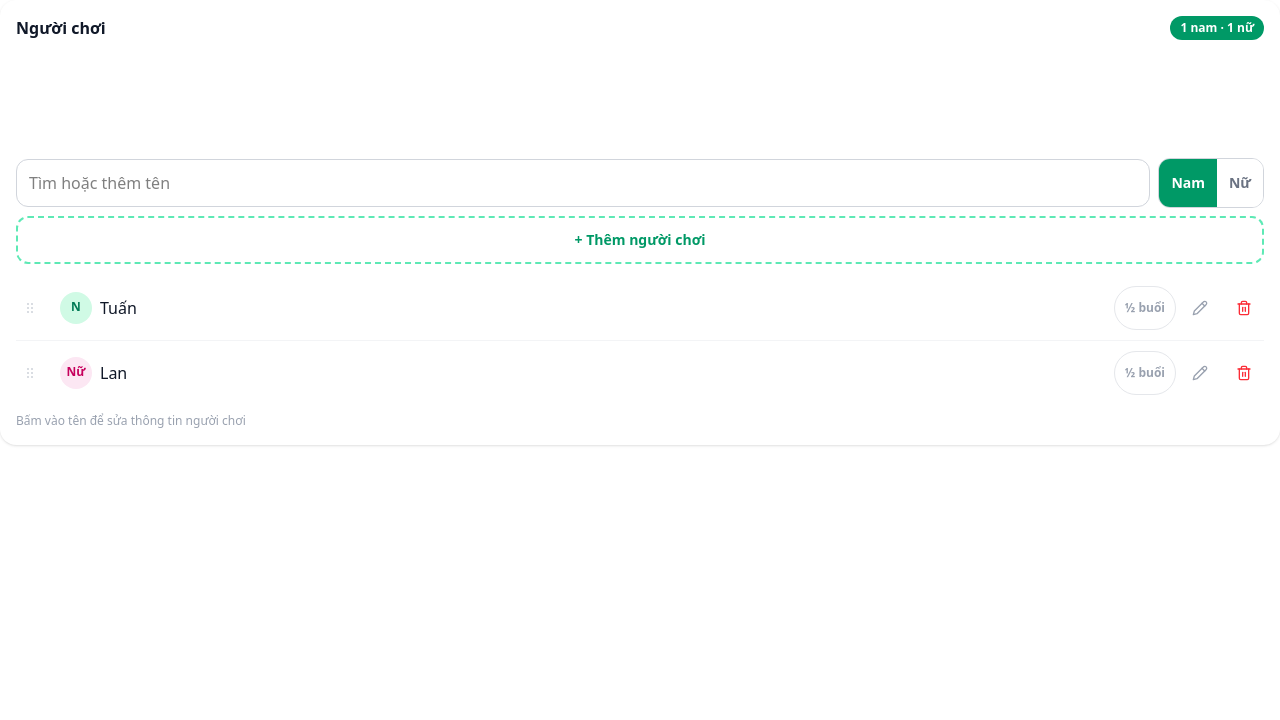
rename via edit drawer commits on blur; duplicate name is blocked
This screenshot has width=1280, height=720.
// open the edit drawer by tapping the name
Click the button "Tuấn" at (118, 308), box [100,286,137,330]
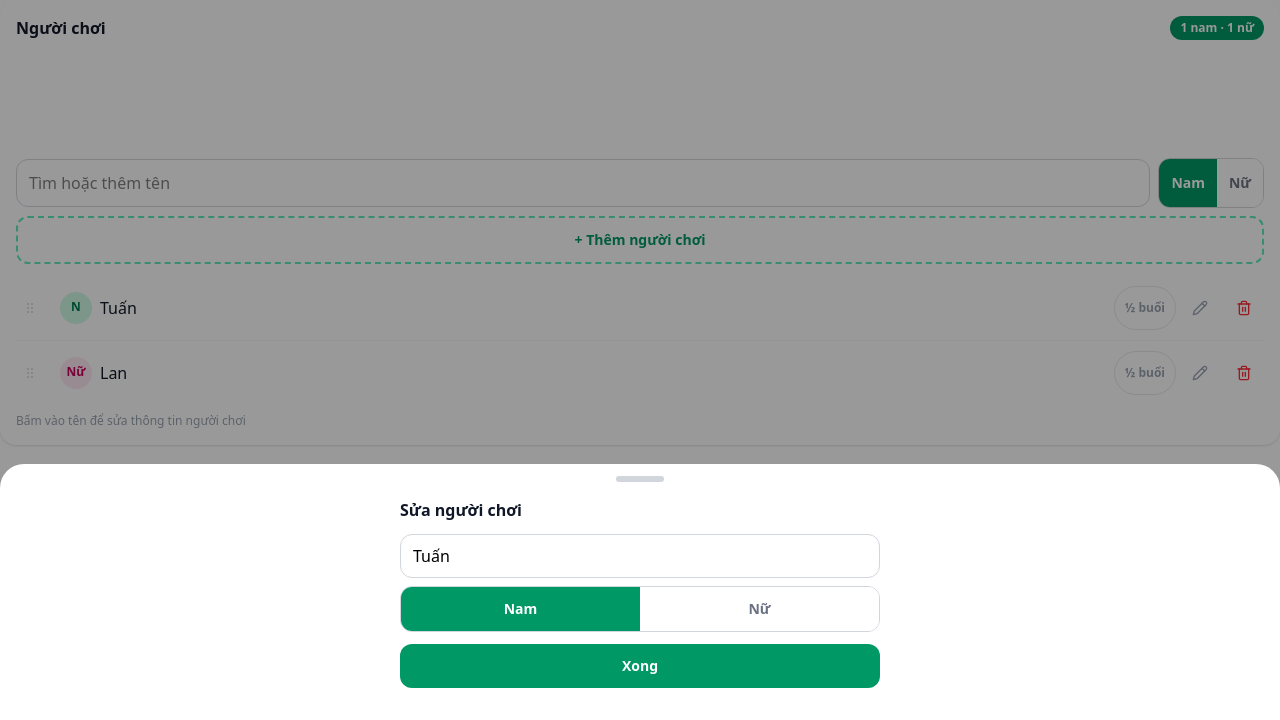
// committing a valid new name on blur renames the player
Replace the text in the field named "Tên của Tuấn" with "Nam Anh" at (640, 556), box [400,534,880,578]
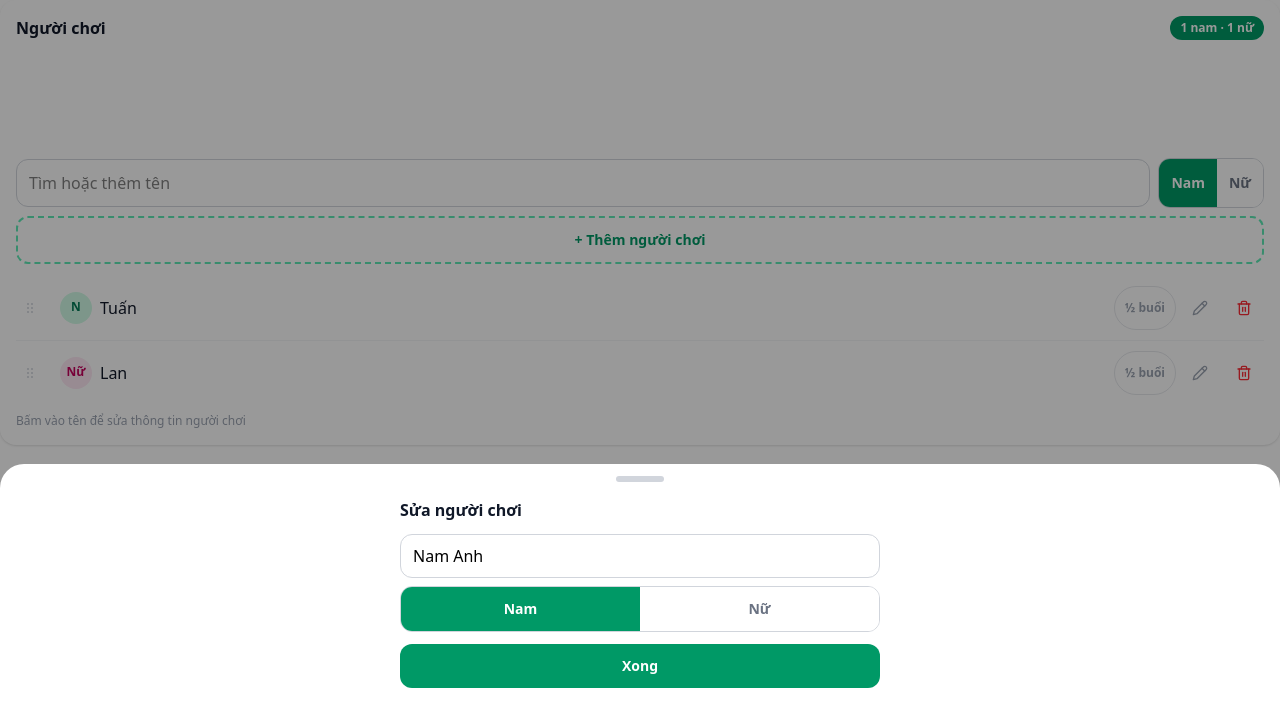
Leave the field named "Tên của Tuấn", box [400,534,880,578]
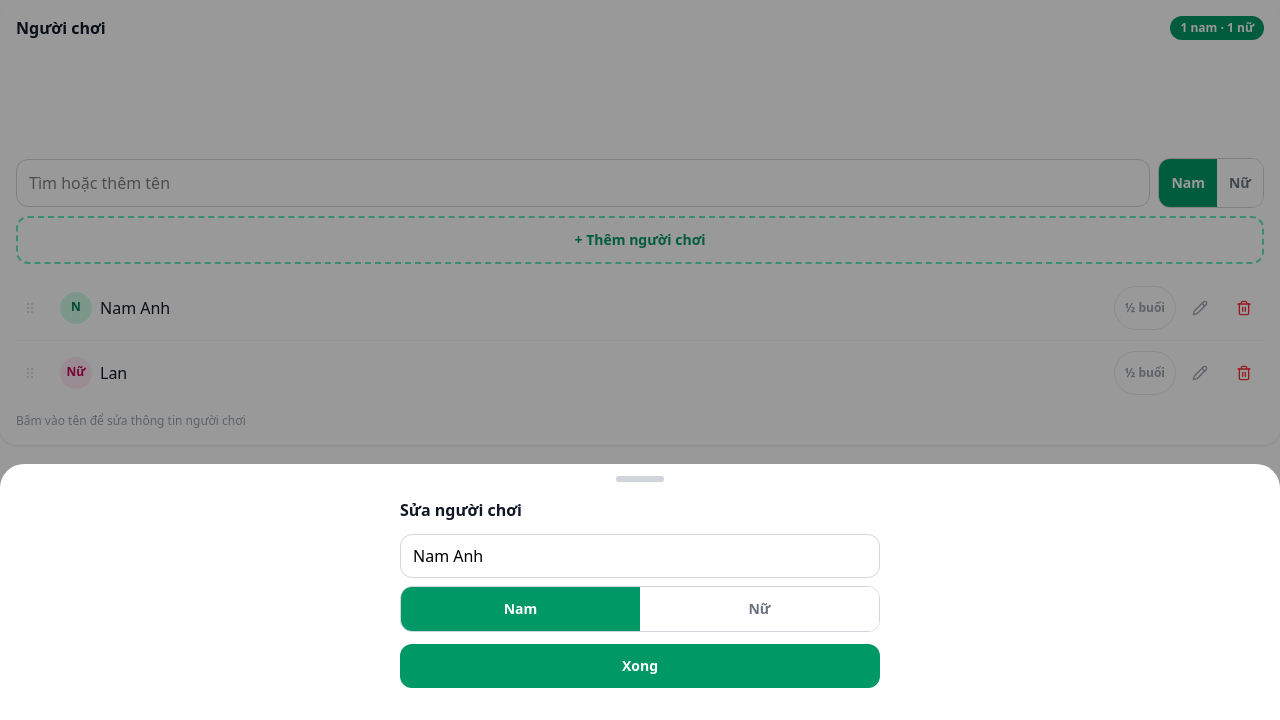
Expected: the text "Nam Anh" is shown, [100,296,170,320]
Expected: the button "Tuấn" is gone
// attempting to rename to an existing name is blocked with an inline error
Replace the text in the field named "Tên của Tuấn" with "lan" at (640, 556), box [400,534,880,578]
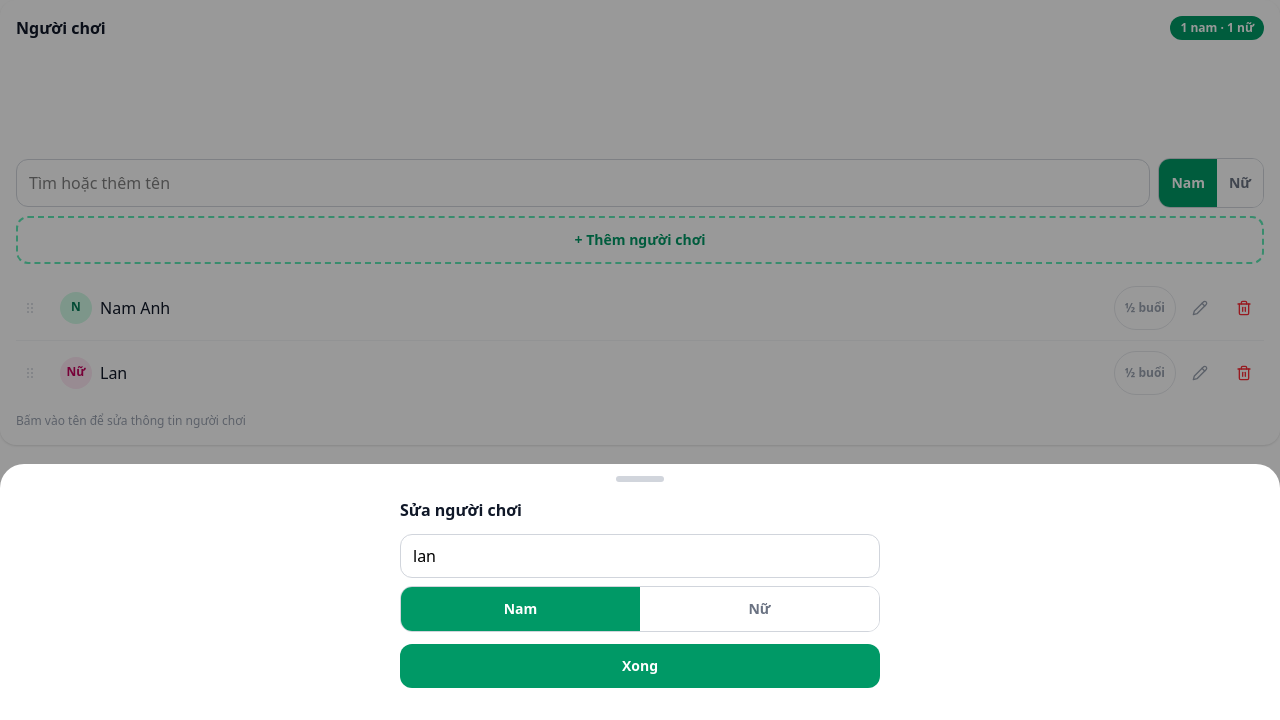
Leave the field named "Tên của Tuấn", box [400,534,880,578]
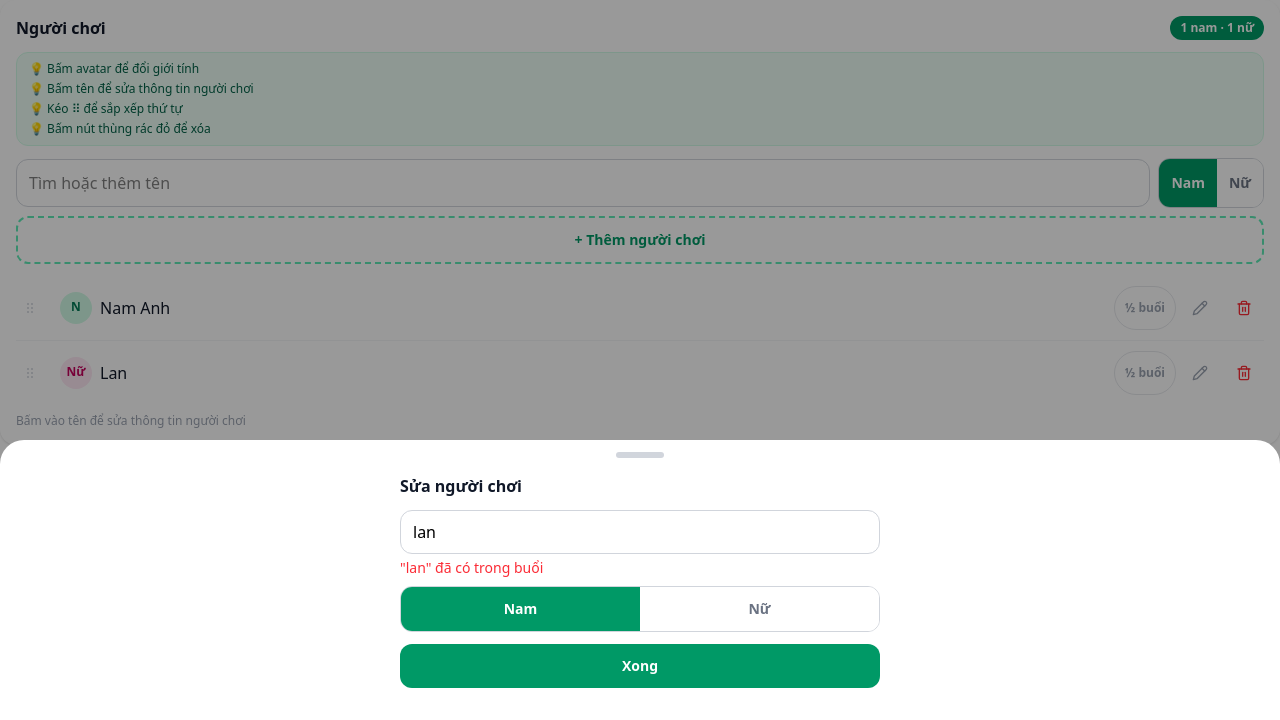
Expected: the text "Nam Anh" is shown, [100,296,170,320]
Expected: the text "\"lan\" đã có trong buổi" is shown, [400,558,543,577]
